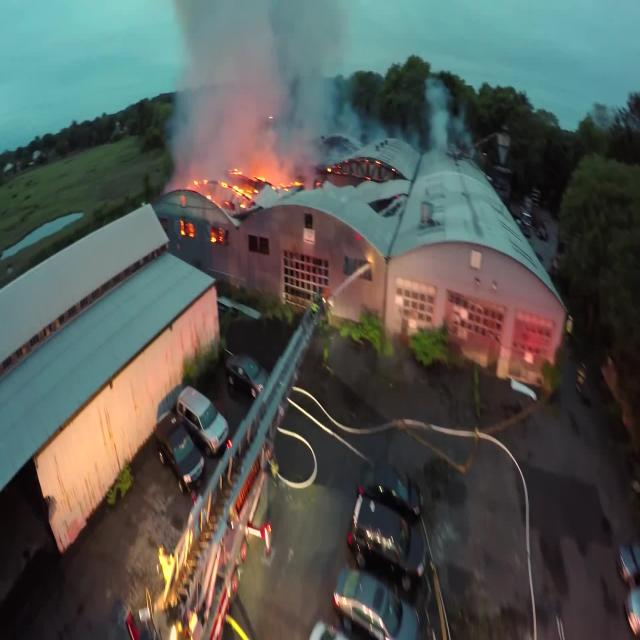Fire: (172, 160, 306, 240)
Smoke: (165, 0, 353, 188), (339, 106, 424, 162), (422, 83, 478, 160)
